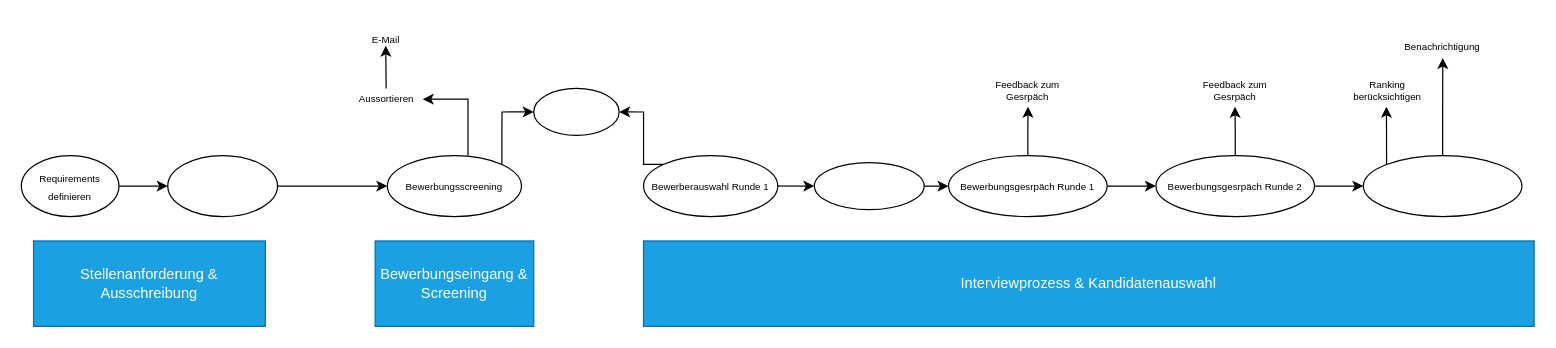
Image size: 1556x348. Some labels were removed from this diagram. The centre of each missing label's shape, as x and y in pixels:
"Bewerberauswahl" belongs at point 1442,185.
"Ranking" belongs at point 576,111.
"Stellenausschreibung erstellen" belongs at point 222,185.
"Terminvereinbarung" belongs at point 868,185.
